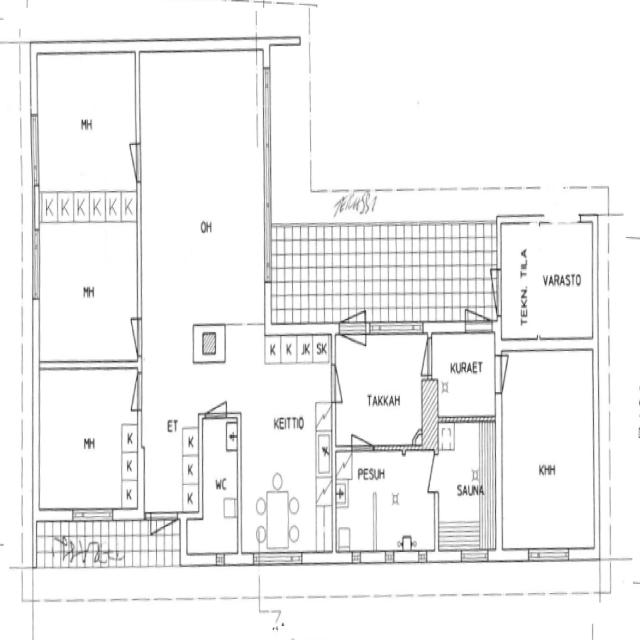door: (339, 315, 368, 355), (127, 138, 144, 188), (493, 352, 510, 396), (127, 371, 144, 415), (129, 314, 145, 360), (328, 363, 344, 407), (350, 428, 374, 454)
window: (256, 61, 274, 161), (27, 107, 43, 188), (370, 320, 422, 341), (29, 227, 43, 305), (525, 544, 570, 566), (543, 213, 581, 229), (460, 548, 489, 565), (213, 550, 228, 569)
zone: (138, 47, 266, 362), (34, 49, 141, 363), (241, 334, 334, 560), (500, 347, 594, 553), (37, 366, 140, 516), (499, 222, 595, 346), (333, 332, 427, 450), (335, 452, 436, 556), (140, 364, 198, 514), (434, 418, 492, 554), (196, 414, 239, 559), (429, 330, 498, 420), (182, 422, 200, 520)
